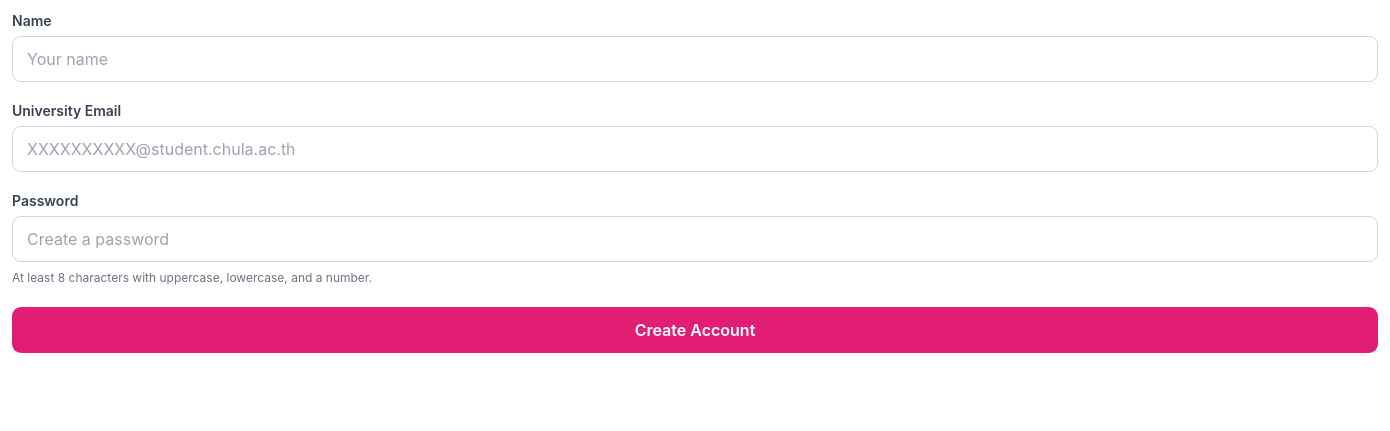
RegisterForm › submits valid registration data and shows success message
Type "Putter" into the field labelled "Name" at point(695, 59), box [12,36,1378,82]
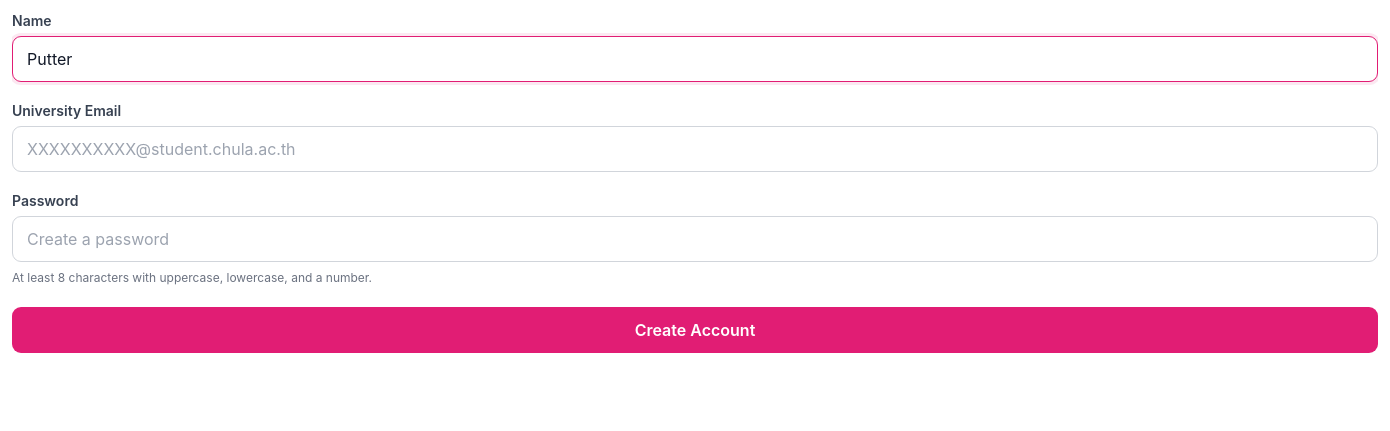
Type "6731234521@student.chula.ac.th" into the field labelled "University Email" at point(695, 149), box [12,126,1378,172]
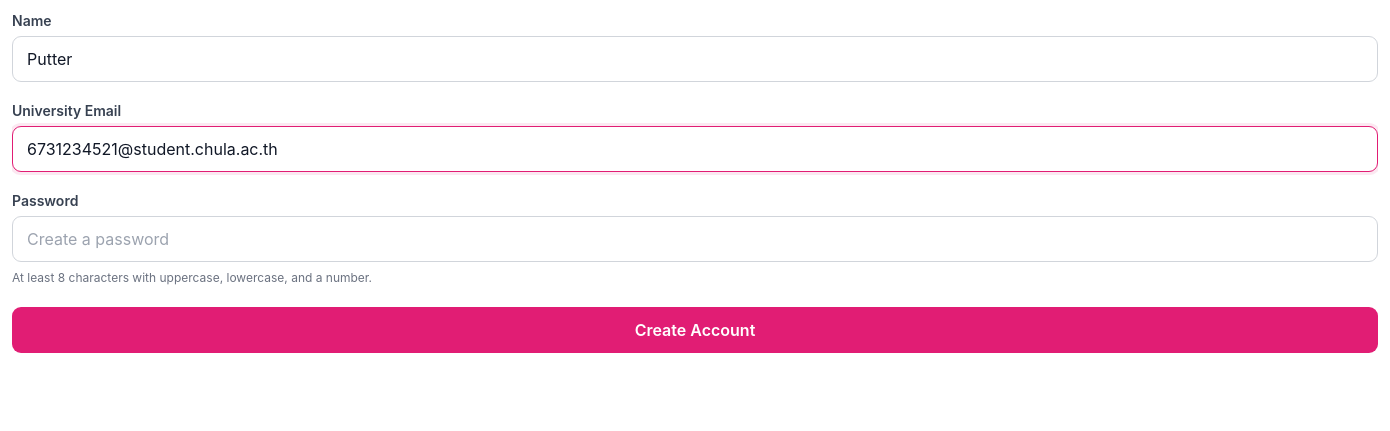
Type "Uniware123" into the password field labelled "Password" at point(695, 239), box [12,216,1378,262]
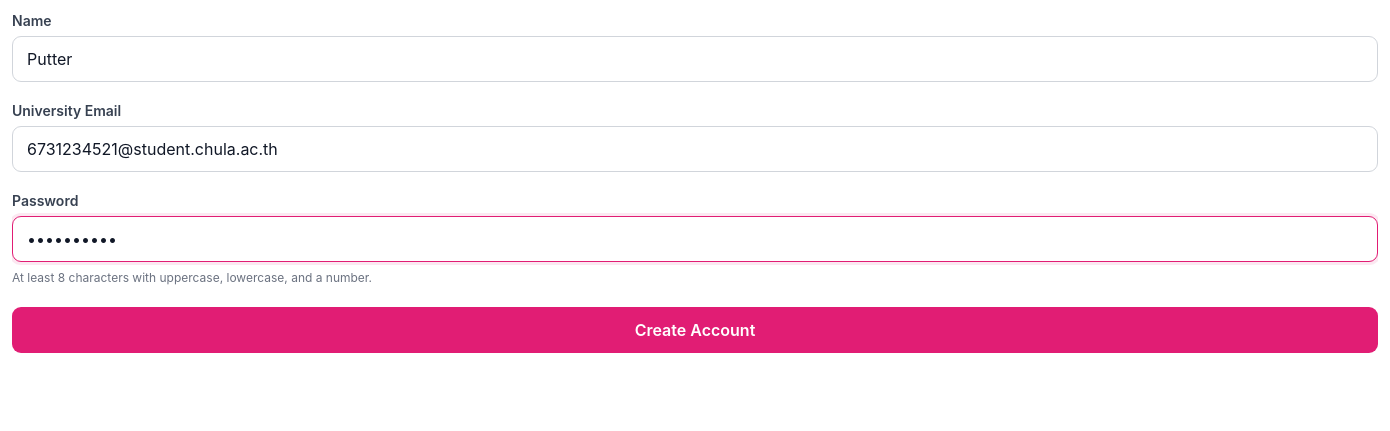
Click the button "Create Account" at point(695, 330), box [12,307,1378,353]
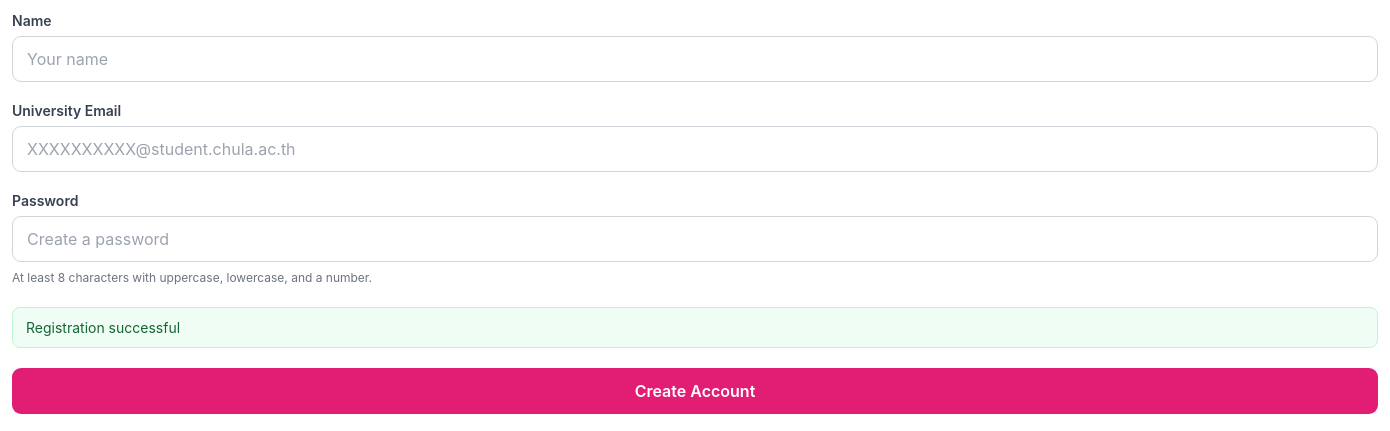
Result: the text "Registration successful" is shown at [12,307,1378,348]
Result: the field labelled "Name" is empty at [12,36,1378,82]
Result: the field labelled "University Email" is empty at [12,126,1378,172]
